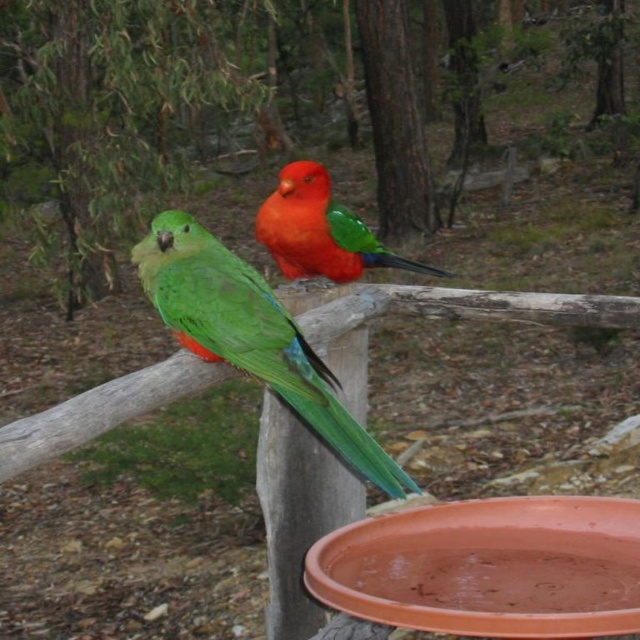Parrot: (128, 212, 422, 504), (255, 157, 468, 288)
